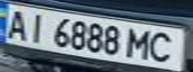6: (48, 16, 72, 48)
8: (103, 22, 127, 56), (84, 20, 106, 54), (66, 18, 87, 52)
A: (0, 7, 33, 40)
C: (145, 29, 184, 64)
I: (21, 11, 51, 44)
M: (124, 26, 157, 61)
